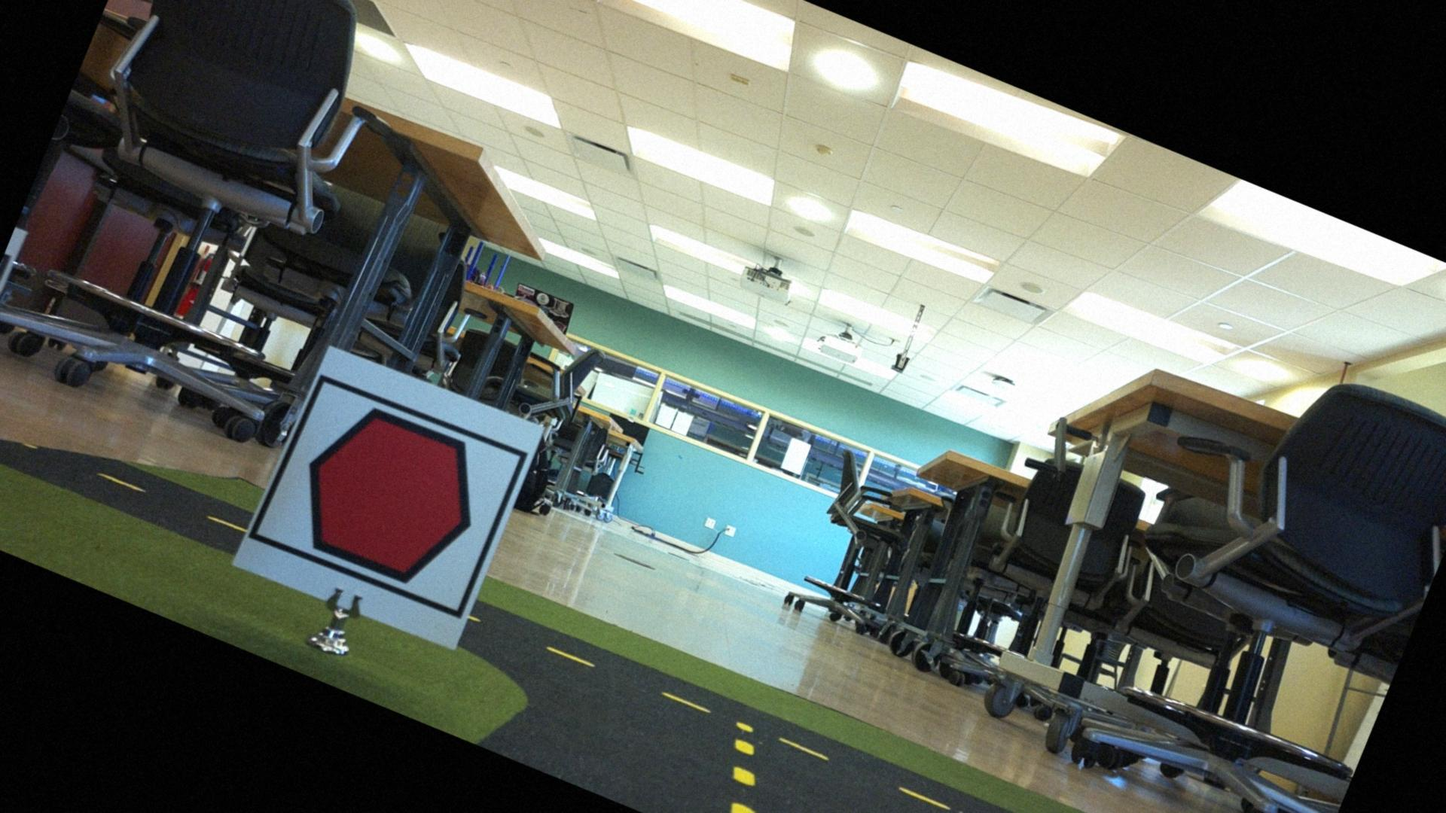stop: (265, 379, 514, 612)
yellowline: (702, 717, 792, 812)
